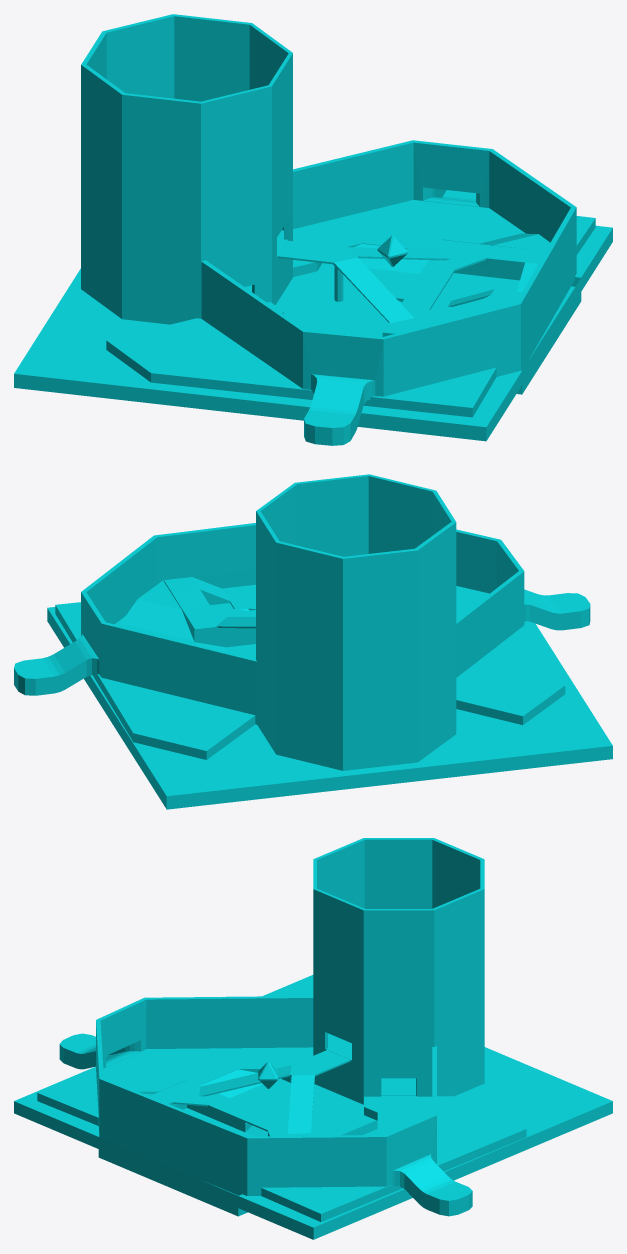
Rendered from StadiumWhiteBlock3.fbx.
The picture shows the model from 3 angles, top to bottom: view 1: azimuth 30°, elevation 25°; view 2: azimuth 150°, elevation 25°; view 3: azimuth 270°, elevation 25°; orthographic projection. The views are drawn at different scales.
Parts seen in each view (by area): view 1: Circle; view 2: Circle; view 3: Circle.
Boxes of the visible parts, <box> form: Circle: <box>14,14,612,445</box>; Circle: <box>14,474,612,809</box>; Circle: <box>14,838,612,1239</box>.
Size of the model in its own units: 34959 by 13846 by 34959.
